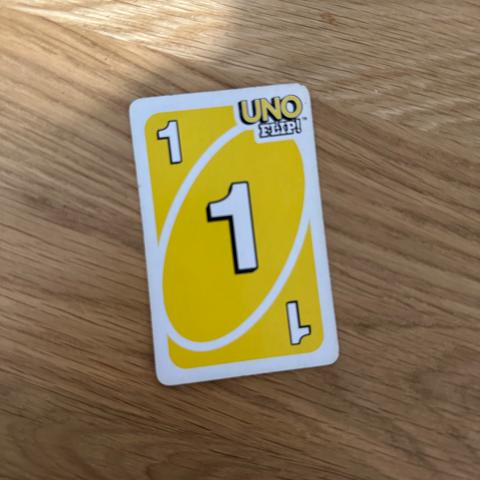lyellow-1: (141, 107, 208, 184)
